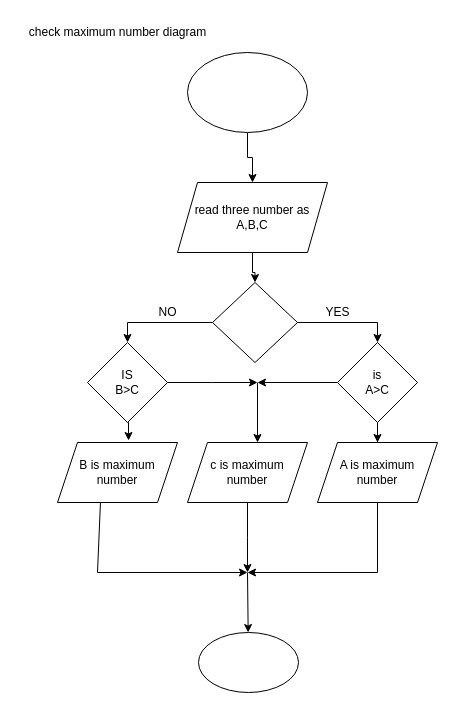
Some shapes in this 455 by 710 pixel diagram are drawn without their labels. Each missing label, with the box of its shape:
END: (198, 632, 298, 692)
is A>B: (212, 282, 298, 362)
START: (186, 52, 308, 132)
